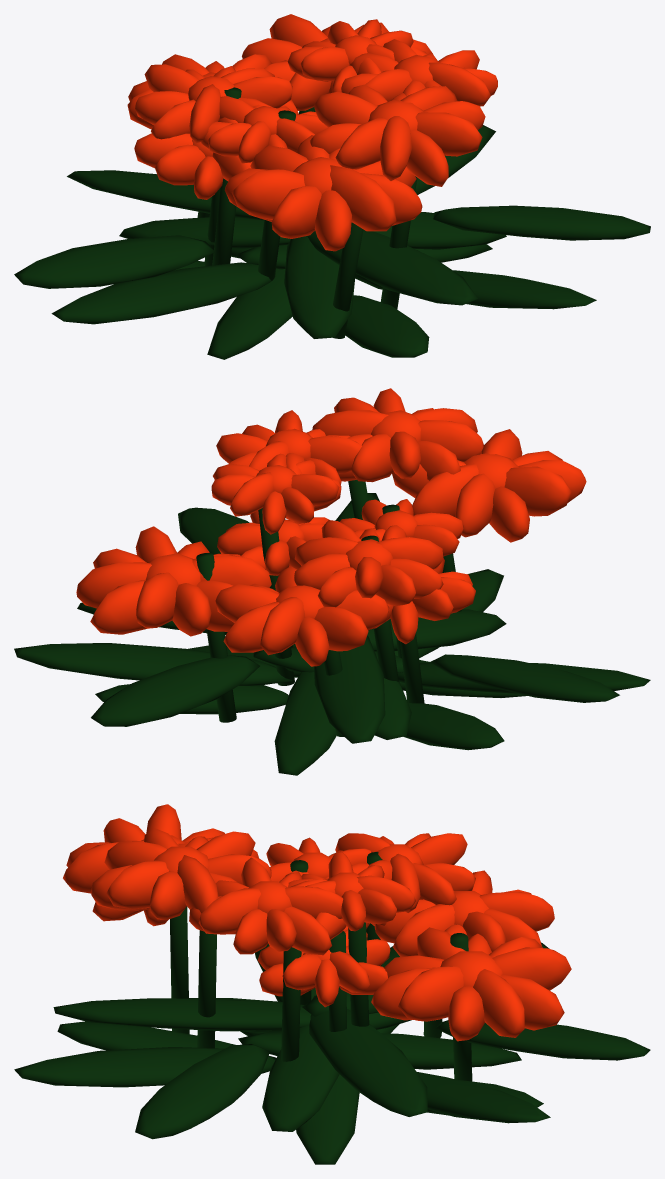
Rendered from cempasuchil.obj.
The picture shows the model from 3 angles, top to bottom: view 1: azimuth 30°, elevation 25°; view 2: azimuth 150°, elevation 25°; view 3: azimuth 270°, elevation 25°; orthographic projection. The views are drawn at different scales.
Parts seen in each view (by area): view 1: cempasuchil; view 2: cempasuchil; view 3: cempasuchil.
Part boxes in pixels (x1,y1,x2,y2): cempasuchil: (14, 14, 650, 359); cempasuchil: (14, 388, 650, 775); cempasuchil: (14, 804, 650, 1164).
Bounding box in the file's own units: 1.74 × 0.7293 × 1.76.
